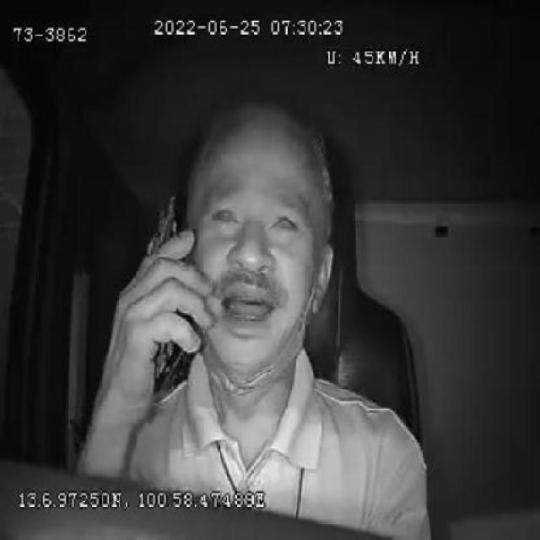phone: (146, 191, 201, 400)
